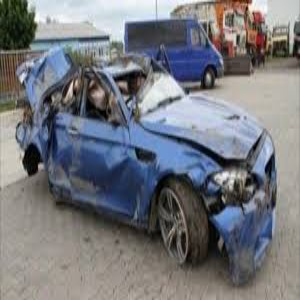door: (40, 130, 154, 216)
